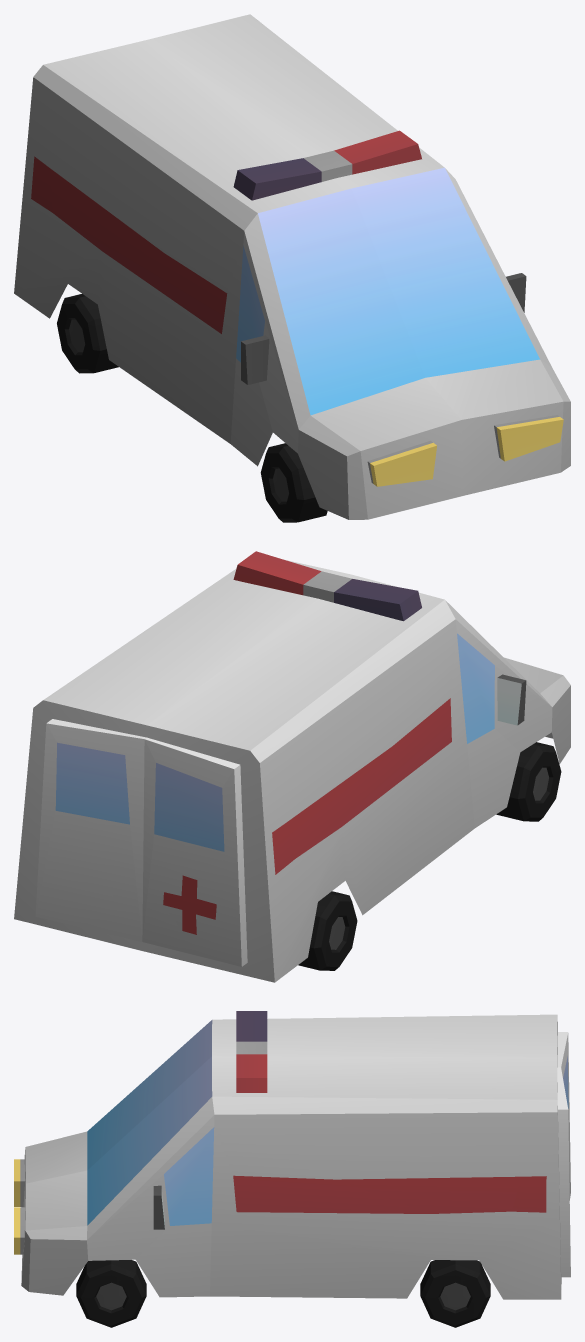
Rendered from ambulance.fbx.
3 renders of one model, top to bottom at view 1: azimuth 30°, elevation 25°; view 2: azimuth 150°, elevation 25°; view 3: azimuth 270°, elevation 25°, orthographic. The views are drawn at different scales.
Parts seen in each view (by area): view 1: amb_base, amb_wheels, amb_signals, amb_lights, amb_mirrors; view 2: amb_base, amb_backdoor, amb_wheels, amb_signals, amb_mirrors; view 3: amb_base, amb_wheels, amb_backdoor, amb_signals, amb_lights, amb_mirrors.
Part boxes in pixels (x1,y1,x2,y2): amb_base: (14, 14, 570, 519); amb_wheels: (57, 294, 327, 522); amb_signals: (233, 130, 421, 200); amb_lights: (367, 415, 563, 486); amb_mirrors: (241, 273, 526, 384); amb_base: (14, 560, 570, 982); amb_backdoor: (35, 719, 247, 966); amb_wheels: (298, 742, 561, 970); amb_signals: (233, 551, 421, 621); amb_mirrors: (497, 674, 526, 725); amb_base: (21, 1014, 561, 1299); amb_wheels: (76, 1260, 490, 1327); amb_backdoor: (557, 1032, 570, 1277); amb_signals: (236, 1011, 267, 1092); amb_lights: (14, 1159, 25, 1254); amb_mirrors: (153, 1185, 164, 1229).
Bounding box in the file's own units: 283 × 263 × 576.
